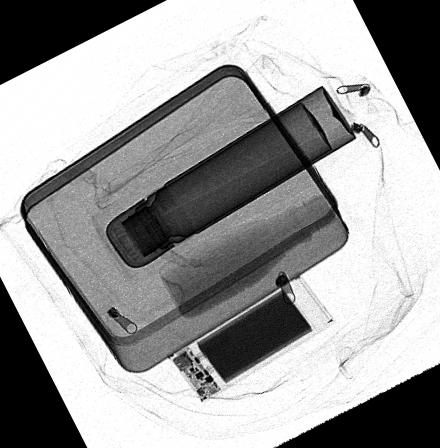Powerbank: (164, 272, 333, 404)
